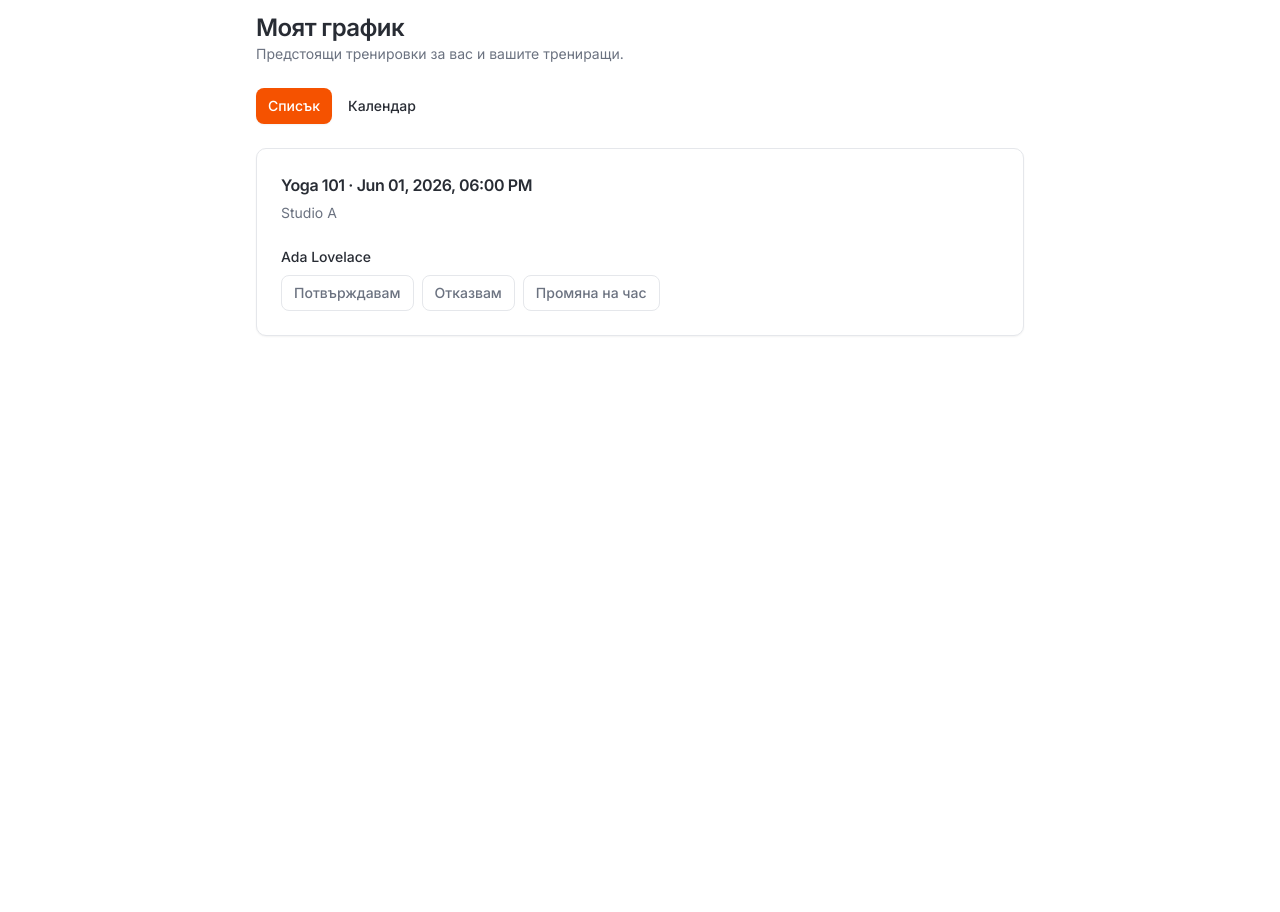
PortalSchedulePage › clicking an RSVP button sends a PATCH and reflects the choice as aria-pressed
Click the button "Потвърждавам" at (347, 293), box [281, 275, 414, 311]
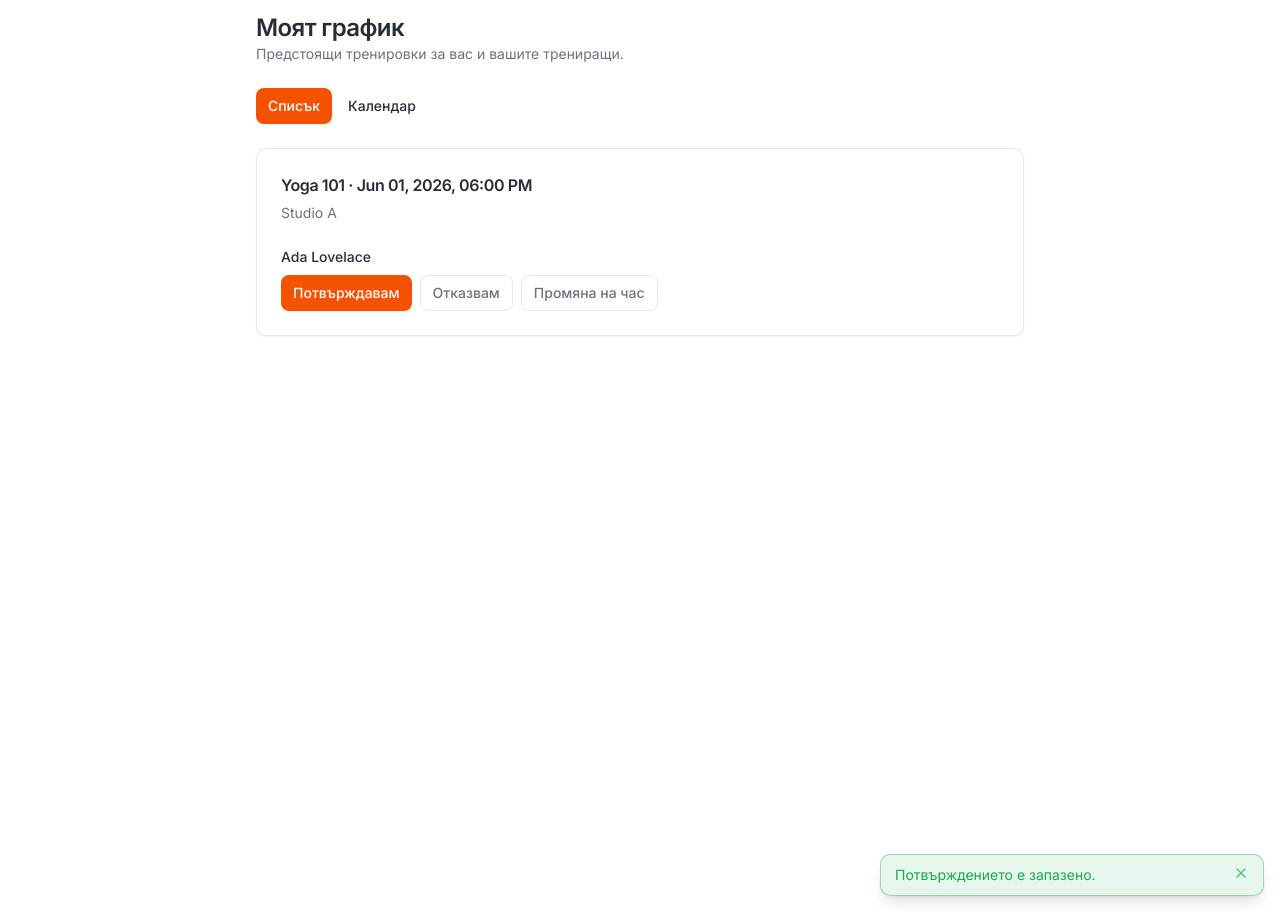
Expected: the text "Потвърждението е запазено." is shown, [895, 866, 1096, 883]
